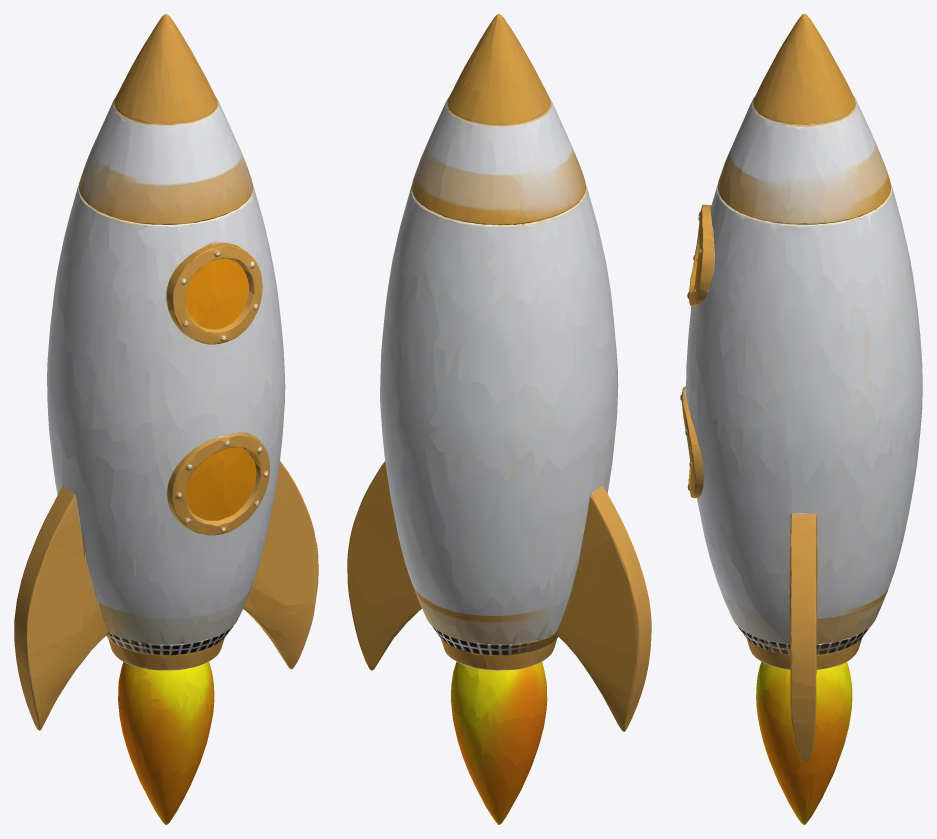
File: rocket.glb
The picture shows the model from 3 angles, left to right: view 1: azimuth 30°, elevation 25°; view 2: azimuth 150°, elevation 25°; view 3: azimuth 270°, elevation 25°; orthographic projection.
Bounding box in the file's own units: 0.3783 × 1 × 0.2713.
1 material, 1 textured.
